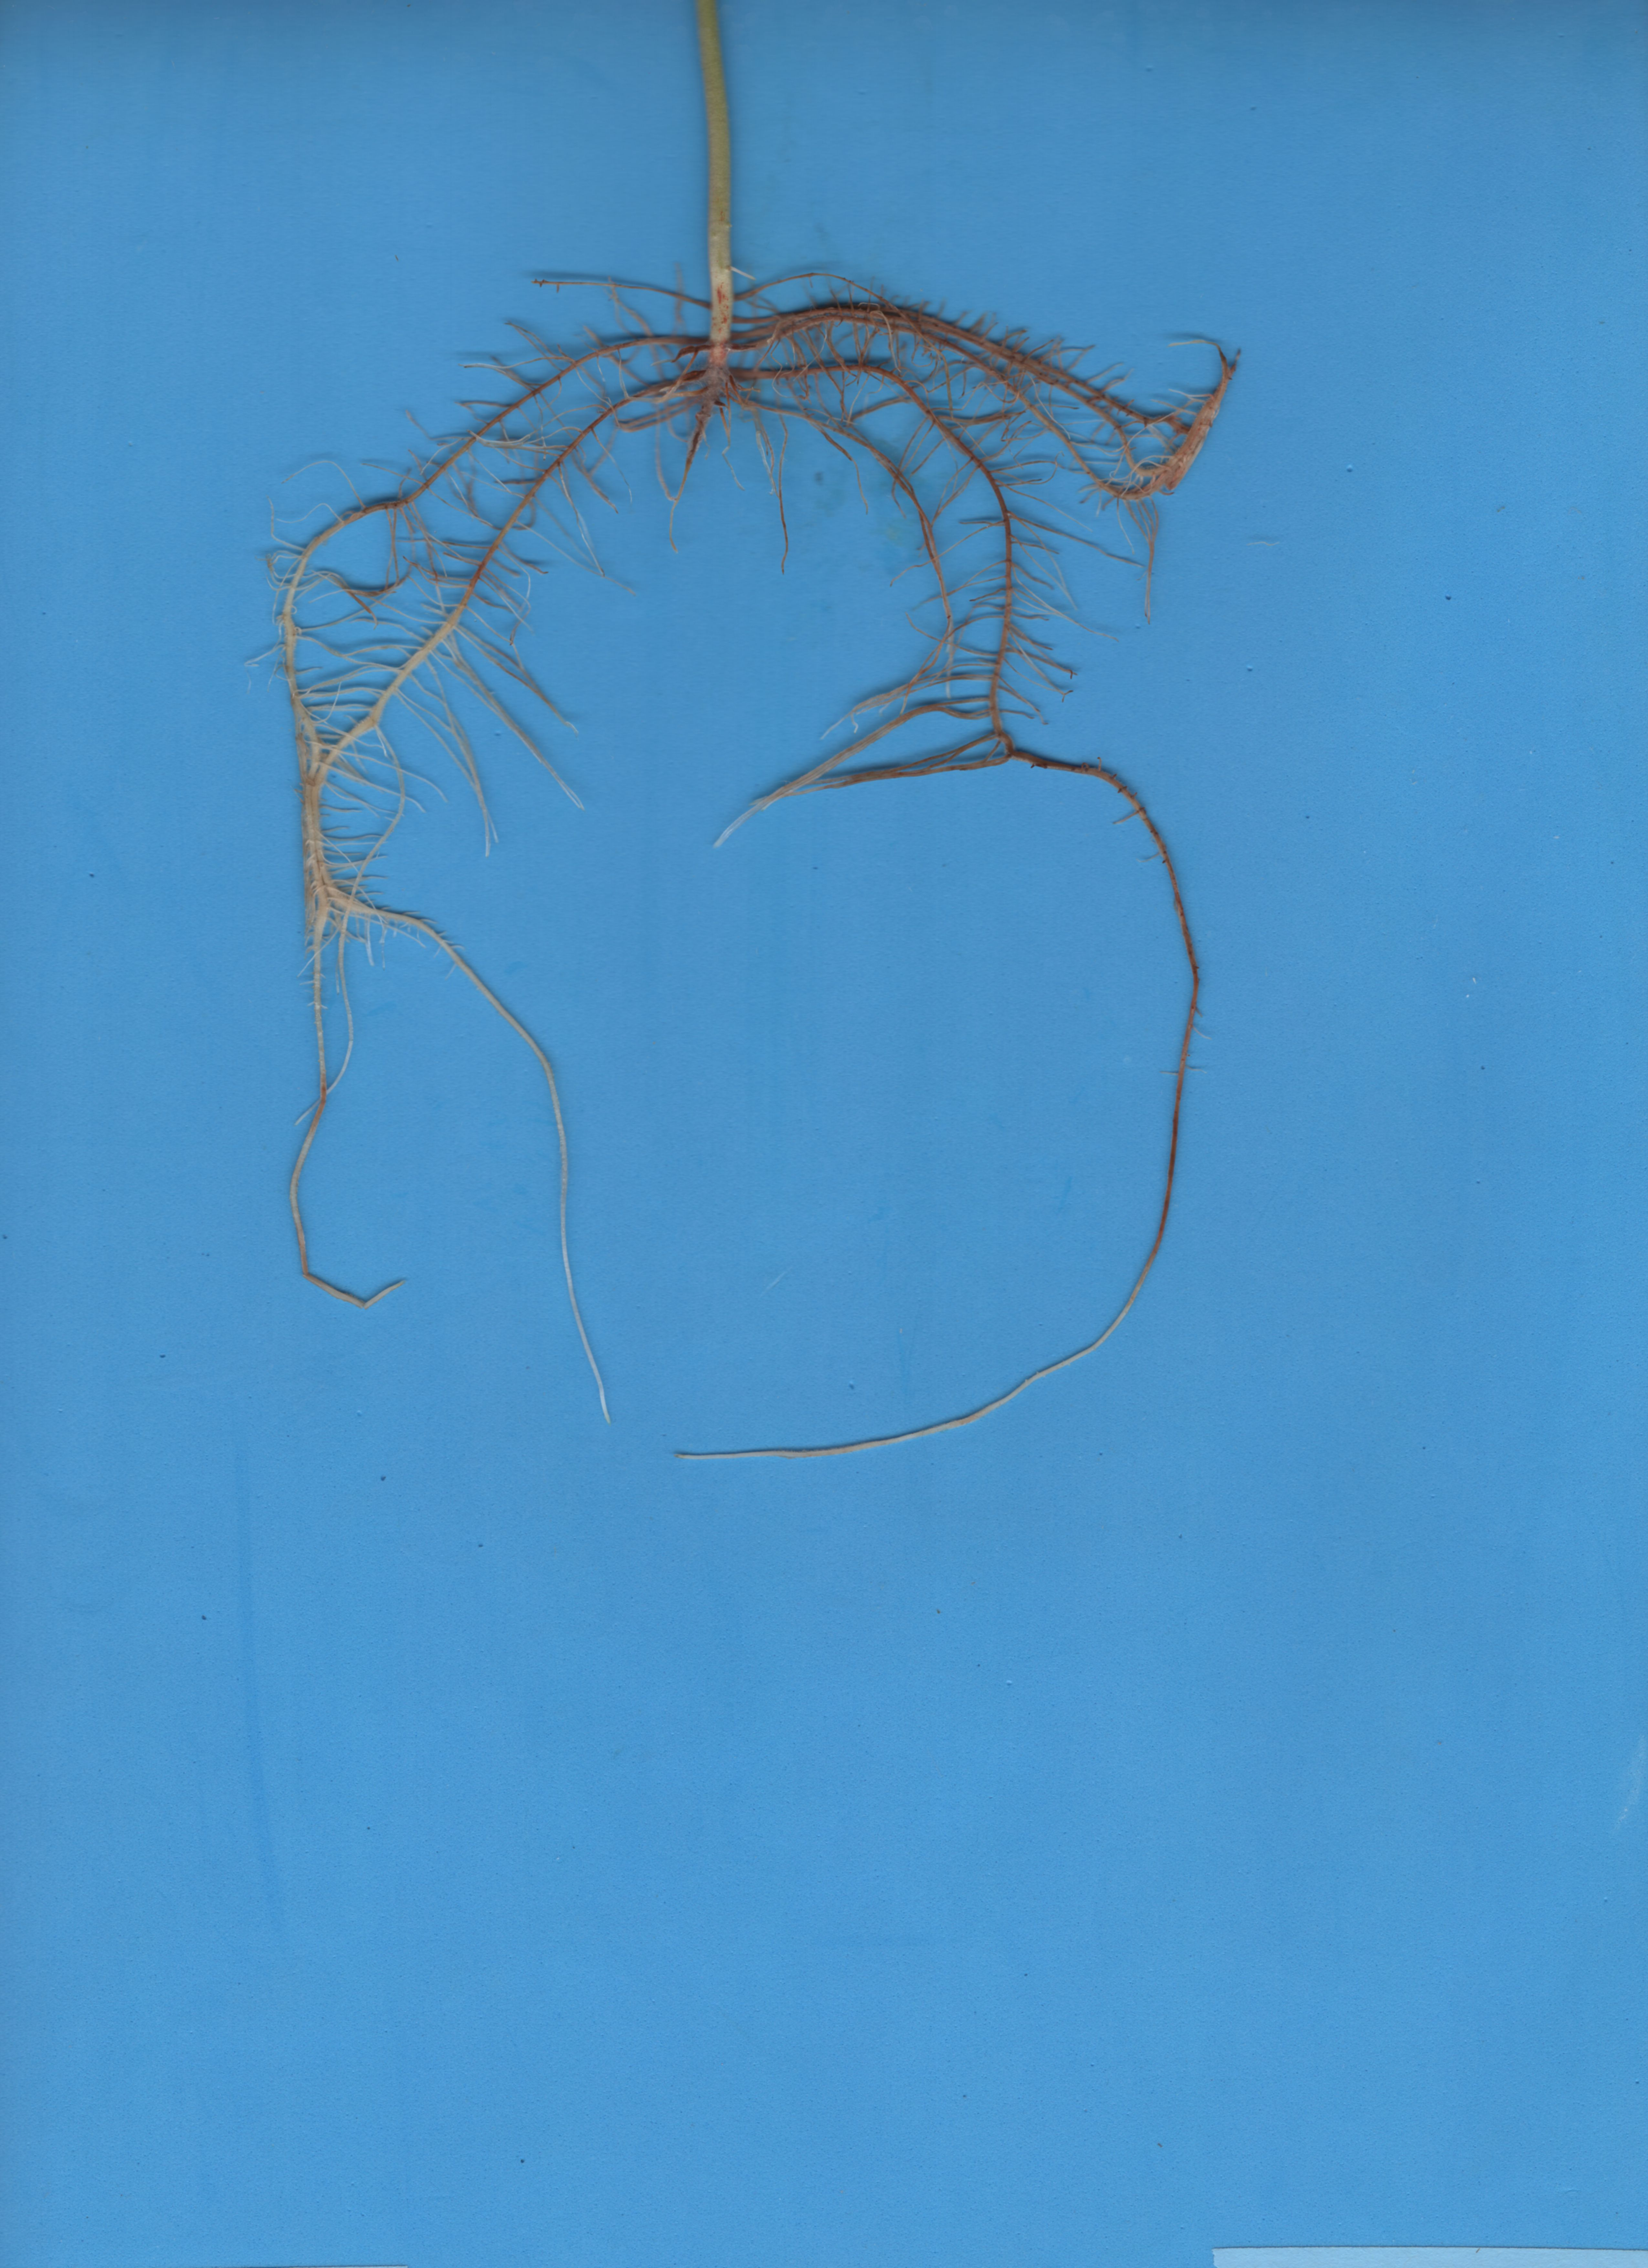CROWNGOOD: (658, 0, 769, 349)
ROOTDISEASE: (144, 247, 1275, 1481)
